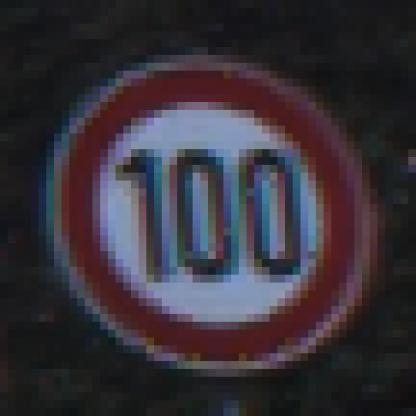Speed Limit 100: (56, 66, 368, 364)
